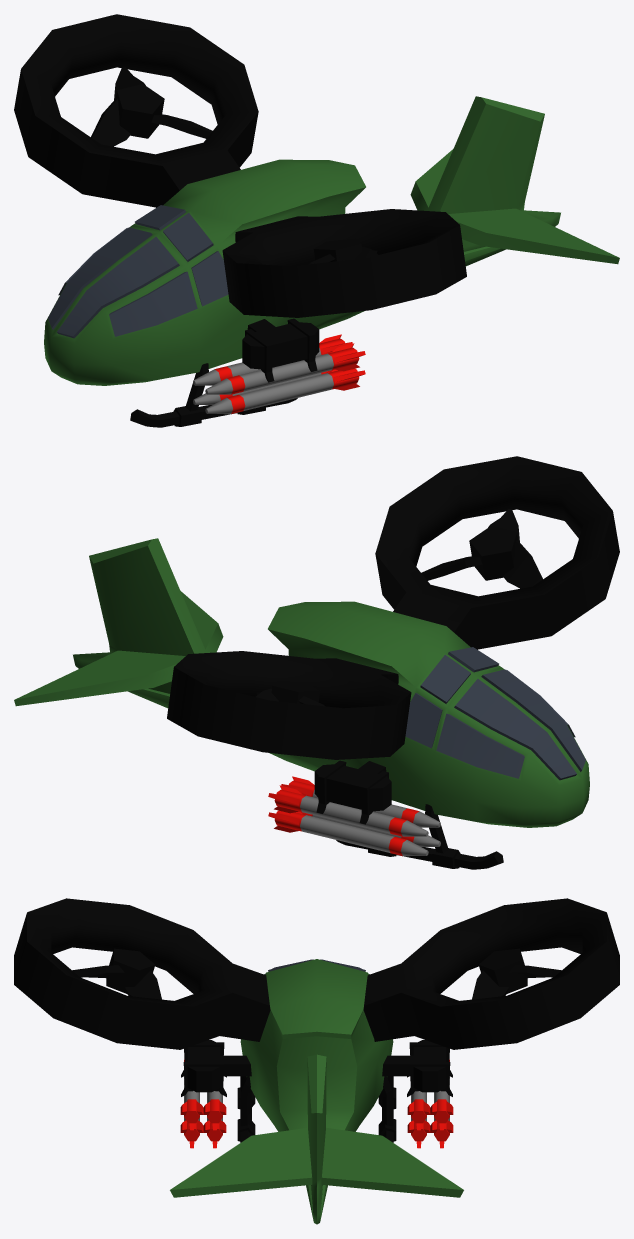
File: helicopter plane.fbx
3 views of the same model, one above another, from view 1: azimuth 30°, elevation 25°; view 2: azimuth 150°, elevation 25°; view 3: azimuth 270°, elevation 25° (orthographic). The views are drawn at different scales.
Parts seen in each view (by area): view 1: helicopter plane, blades.001, rocket launcher; view 2: helicopter plane, blades.001, rocket launcher; view 3: blades.001, helicopter plane, rocket launcher.
Boxes of the visible parts, left/top/right/bottom form: helicopter plane: left=44, top=96, right=619, bottom=427; blades.001: left=14, top=14, right=466, bottom=317; rocket launcher: left=193, top=334, right=365, bottom=414; helicopter plane: left=14, top=538, right=589, bottom=869; blades.001: left=167, top=456, right=619, bottom=759; rocket launcher: left=268, top=776, right=440, bottom=856; blades.001: left=14, top=898, right=619, bottom=1049; helicopter plane: left=170, top=959, right=463, bottom=1224; rocket launcher: left=180, top=1059, right=453, bottom=1148.
Size of the model in its own units: 380 by 172 by 420.
